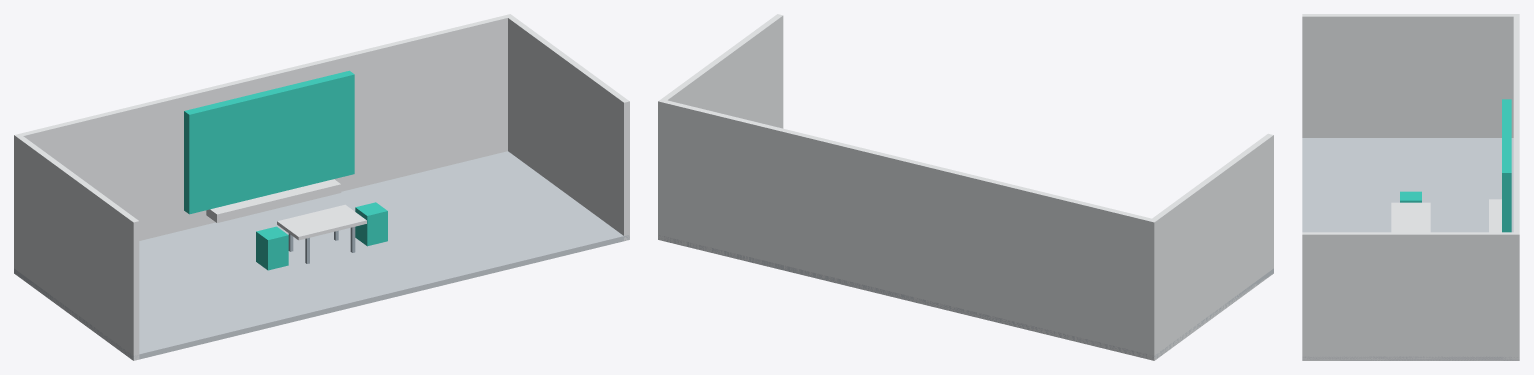
3 views of the same model, side by side, from view 1: azimuth 30°, elevation 25°; view 2: azimuth 150°, elevation 25°; view 3: azimuth 270°, elevation 25° (orthographic). The views are drawn at different scales.
Parts seen in each view (by area): view 1: Exhibition Booth Concept; view 2: Exhibition Booth Concept; view 3: Exhibition Booth Concept.
Part boxes in pixels (x1,y1,x2,y2): Exhibition Booth Concept: (14, 14, 629, 360); Exhibition Booth Concept: (658, 14, 1273, 360); Exhibition Booth Concept: (1302, 14, 1519, 360).
Size of the model in its own units: 12 by 3.2 by 5.
